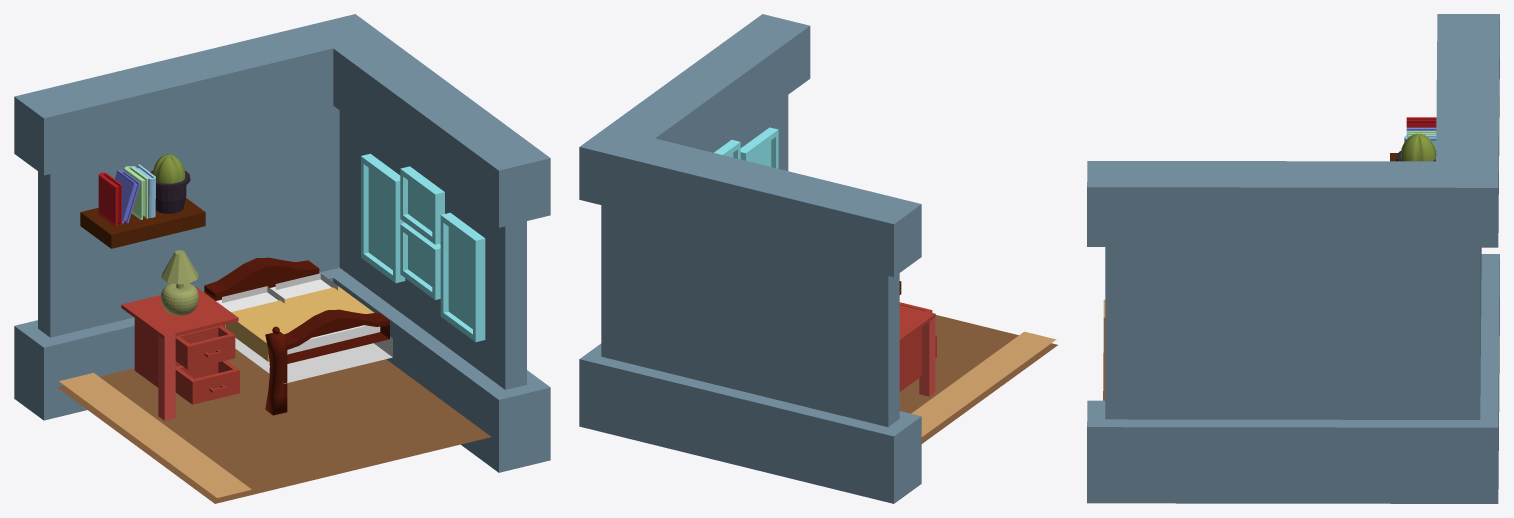
File: Diorama_De_Habitacion.gltf
The picture shows the model from 3 angles, left to right: view 1: azimuth 30°, elevation 25°; view 2: azimuth 150°, elevation 25°; view 3: azimuth 270°, elevation 25°; orthographic projection. The views are drawn at different scales.
Parts seen in each view (by area): view 1: Cubo, Plano, Cubo.001, Plano.011, Plano.001, Plano.008, Cubo.002, Plano.003, Plano.004, Plano.002, Plano.007, Esfera (+7 smaller); view 2: Cubo, Plano, Plano.001, Plano.011, Cubo.001, Plano.012; view 3: Cubo, Esfera.001.
Boxes of the visible parts, x1,y1,x2,y2 form: Cubo: (14,14,550,472); Plano: (57,349,490,503); Cubo.001: (361,153,485,342); Plano.011: (121,286,239,404); Plano.001: (59,372,251,497); Plano.008: (225,286,373,361); Cubo.002: (80,198,205,248); Plano.003: (284,309,389,363); Plano.004: (204,257,319,300); Plano.002: (225,325,392,383); Plano.007: (216,279,380,354); Esfera: (161,250,198,315); Cubo: (579,14,921,503); Plano: (899,315,1057,443); Plano.001: (911,331,1056,436); Plano.011: (899,302,936,391); Cubo.001: (714,127,778,168); Plano.012: (919,317,935,396); Cubo: (1087,14,1499,503); Esfera.001: (1400,133,1436,161).
Size of what is drawn, in the model's own units: 6.6 by 5.6 by 6.62.
